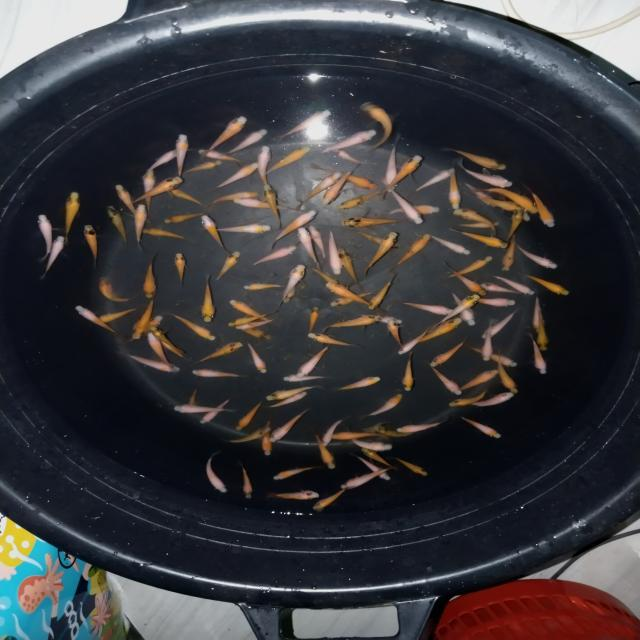nila: (441, 144, 516, 174), (269, 207, 322, 249), (307, 160, 380, 190), (201, 114, 249, 158), (277, 108, 342, 140), (322, 280, 386, 312), (202, 161, 262, 194), (127, 174, 185, 208), (358, 100, 393, 156), (377, 153, 424, 194), (295, 168, 342, 208), (314, 128, 376, 158), (262, 145, 314, 180), (114, 350, 184, 376), (430, 294, 480, 330), (480, 186, 540, 216), (386, 182, 426, 226), (72, 302, 120, 338), (319, 165, 361, 206), (448, 226, 514, 252), (389, 232, 434, 270), (130, 292, 163, 343), (448, 208, 500, 240), (271, 406, 317, 442), (340, 462, 395, 492), (456, 161, 512, 190), (35, 235, 69, 282), (165, 312, 217, 342), (245, 243, 298, 272), (356, 390, 404, 422), (460, 343, 521, 368), (140, 144, 186, 177), (222, 128, 270, 159), (470, 191, 529, 216), (441, 264, 487, 296), (413, 316, 462, 346), (481, 307, 523, 342), (520, 271, 573, 298), (412, 166, 458, 197), (333, 248, 366, 290), (144, 330, 177, 372), (295, 343, 334, 378), (446, 290, 481, 329), (526, 186, 557, 230), (456, 412, 503, 441), (198, 214, 232, 254), (231, 196, 299, 216), (258, 182, 286, 230), (512, 242, 558, 271), (426, 362, 464, 397), (429, 336, 468, 370), (125, 314, 166, 346), (521, 333, 550, 378), (224, 420, 274, 446), (391, 299, 456, 319), (336, 187, 384, 214), (441, 256, 494, 280), (296, 226, 324, 271), (76, 220, 102, 268), (204, 448, 231, 494), (367, 232, 398, 272), (352, 453, 394, 482), (310, 483, 352, 512), (228, 298, 274, 324), (192, 342, 246, 364), (458, 366, 500, 394), (197, 146, 250, 168), (279, 264, 305, 308), (305, 332, 368, 350), (265, 385, 328, 403), (222, 320, 278, 340), (382, 134, 400, 196), (204, 191, 262, 210), (213, 246, 243, 282), (150, 324, 186, 354), (62, 190, 82, 244), (96, 274, 132, 304), (141, 162, 161, 215), (105, 204, 129, 248), (366, 278, 399, 310), (320, 314, 386, 330), (204, 222, 274, 237), (332, 373, 384, 393), (528, 288, 548, 340), (496, 350, 518, 397), (337, 214, 410, 228), (236, 398, 266, 432), (490, 274, 536, 296), (94, 306, 140, 328), (32, 212, 52, 262), (112, 183, 142, 216), (448, 387, 491, 410), (310, 432, 336, 470), (498, 236, 524, 274), (197, 270, 215, 324), (427, 235, 471, 257), (362, 446, 399, 472), (200, 396, 234, 424), (306, 224, 331, 262), (326, 291, 376, 310), (394, 328, 429, 355), (469, 391, 516, 411), (224, 308, 276, 326), (271, 464, 323, 482), (396, 416, 448, 434), (352, 229, 400, 248), (461, 182, 496, 208), (326, 226, 344, 276), (178, 159, 225, 178), (132, 202, 150, 251), (460, 294, 522, 308), (173, 132, 191, 180), (142, 250, 160, 298), (479, 317, 497, 365), (321, 416, 346, 450), (353, 310, 406, 326), (382, 204, 442, 218), (393, 455, 428, 479), (140, 228, 192, 244), (192, 366, 247, 381), (245, 341, 269, 375), (532, 310, 550, 354), (162, 210, 210, 226), (332, 146, 370, 166), (326, 428, 388, 440), (308, 267, 343, 288), (270, 390, 310, 408), (158, 339, 189, 362), (168, 404, 239, 414), (232, 317, 278, 332), (446, 164, 460, 213), (506, 206, 524, 244), (266, 488, 322, 500), (476, 281, 520, 296), (166, 189, 204, 206), (239, 458, 254, 500), (402, 348, 416, 392), (386, 319, 406, 349), (348, 438, 398, 450), (258, 144, 270, 192), (172, 252, 188, 288), (447, 220, 504, 230), (185, 386, 202, 417), (280, 373, 332, 383), (262, 415, 274, 458), (306, 304, 322, 335), (379, 428, 419, 440), (242, 282, 284, 292), (280, 280, 296, 306)
